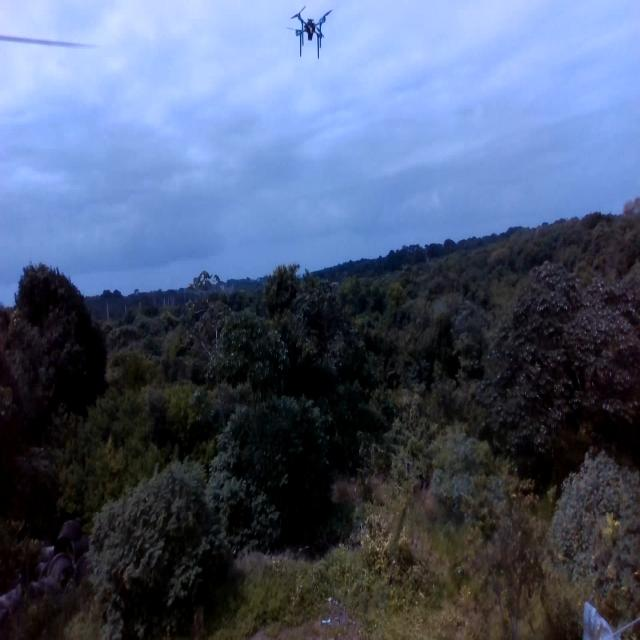-uav-: (287, 0, 335, 64)
